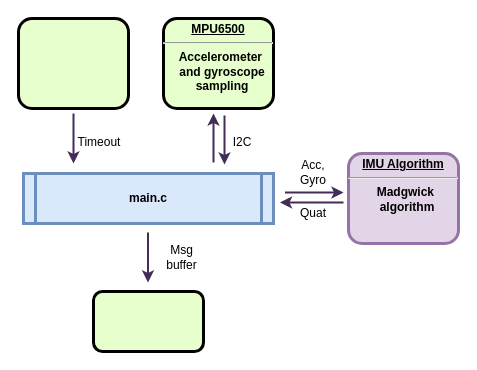
Image size: 477x370. Some labels were removed from this diagram. The shapes that lost their labels are listed below. From the top down, each one's centre as x and y in pixels, then its label:
At [73,63]: "TIM6 Basic timer Sampling rate".
At [148,321]: "USART0 UART TX".
